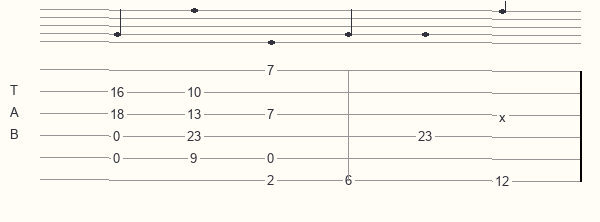0: (113, 151, 124, 165), (113, 129, 124, 143), (267, 151, 278, 165)
10: (187, 85, 205, 99)
12: (495, 173, 513, 187)
13: (187, 107, 205, 121)
16: (110, 85, 128, 99)
18: (110, 107, 128, 121)
2: (267, 173, 278, 187)
23: (187, 129, 205, 143), (418, 129, 436, 143)
6: (345, 173, 356, 187)
7: (267, 63, 278, 77), (267, 107, 278, 121)
9: (190, 151, 201, 165)
x: (499, 109, 510, 120)
